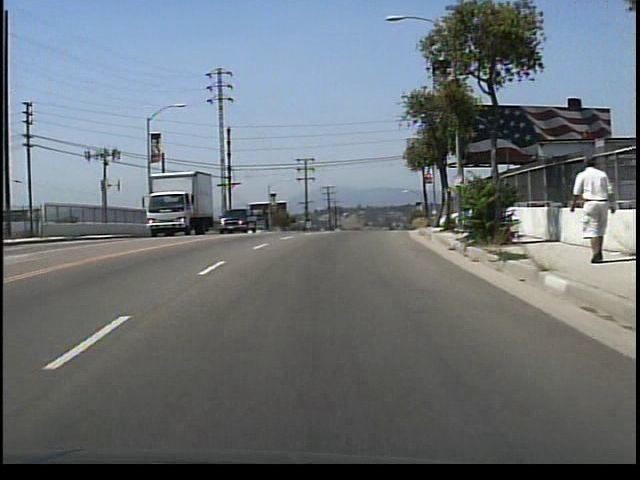person: (565, 153, 610, 266)
